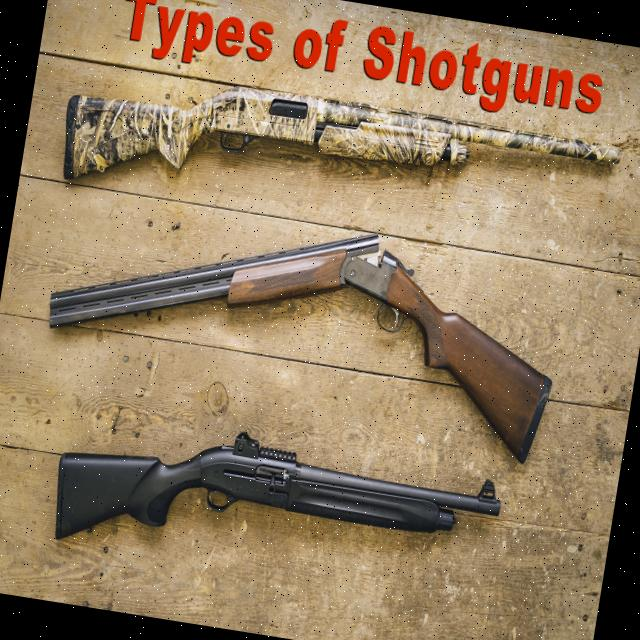Shotgun: (19, 182, 575, 466), (57, 56, 622, 255), (46, 400, 523, 600)
